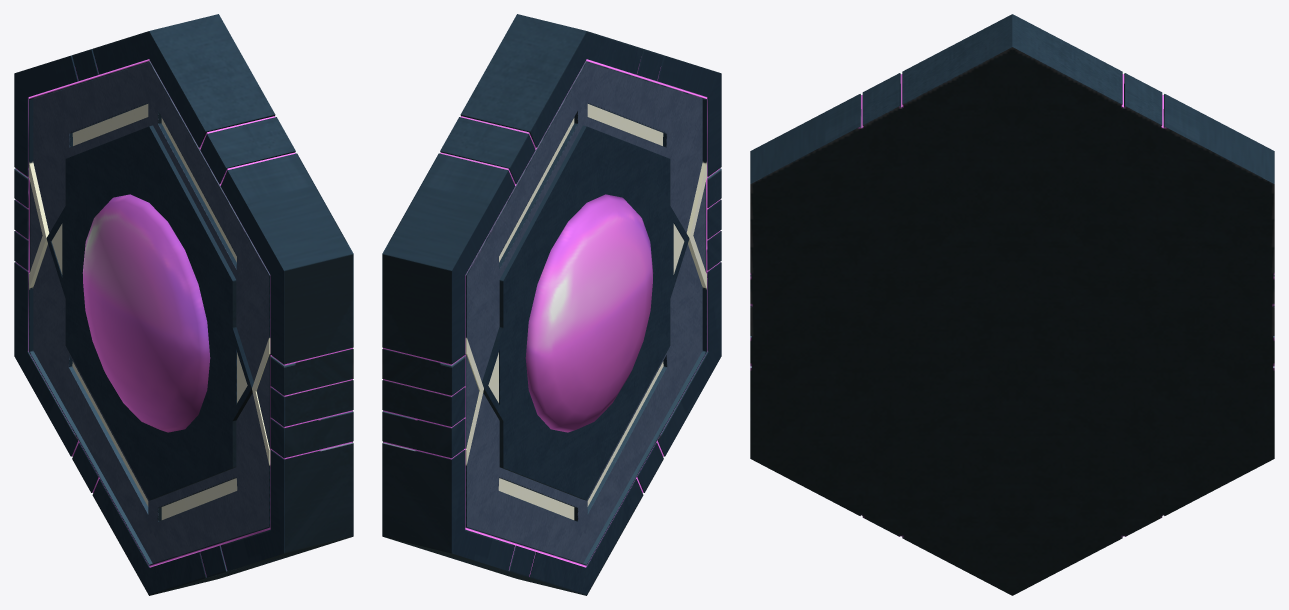
Rendered from entity17524n.gltf.
3 renders of one model, left to right at view 1: azimuth 30°, elevation 25°; view 2: azimuth 150°, elevation 25°; view 3: azimuth 270°, elevation 25°, orthographic. The views are drawn at different scales.
Parts seen in each view (by area): view 1: node_Signbook_Button_Art; view 2: node_Signbook_Button_Art; view 3: node_Signbook_Button_Art.
Boxes of the visible parts, <box> form: node_Signbook_Button_Art: <box>14,14,353,595</box>; node_Signbook_Button_Art: <box>382,14,721,595</box>; node_Signbook_Button_Art: <box>750,14,1274,595</box>.
Bounding box in the file's own units: 0.1444 × 0.7886 × 0.683.
1 material, 1 textured.
